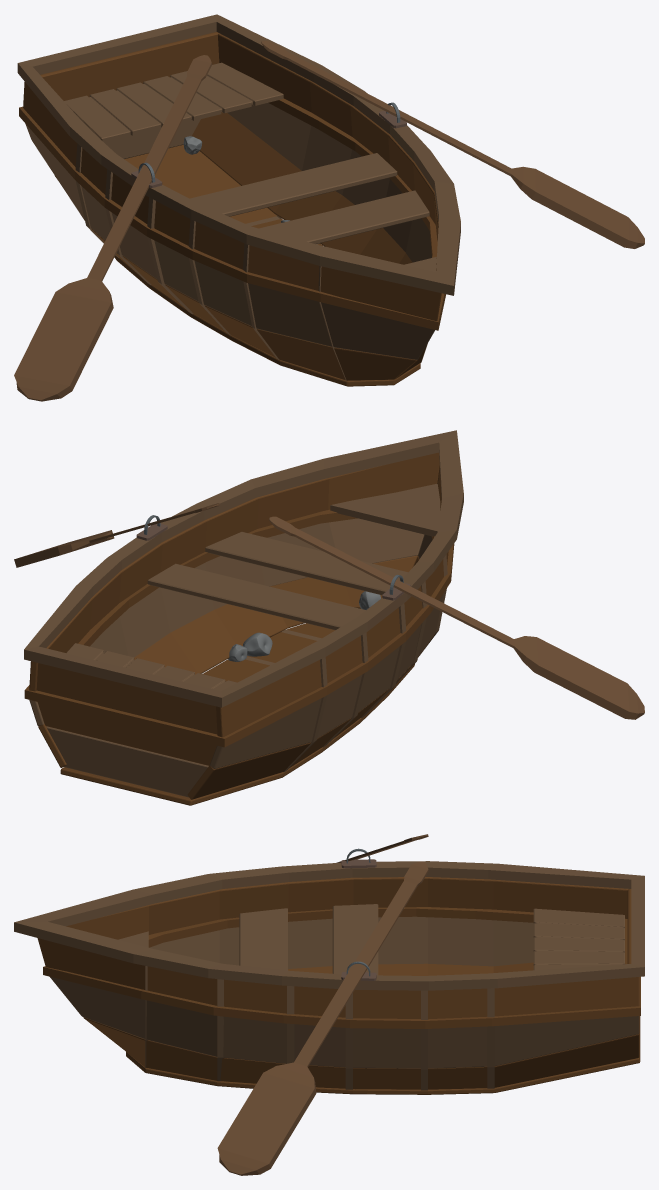
File: Broken Boat 5.fbx
3 renders of one model, top to bottom at view 1: azimuth 30°, elevation 25°; view 2: azimuth 150°, elevation 25°; view 3: azimuth 270°, elevation 25°, orthographic. The views are drawn at different scales.
Visible parts, largest first — view 1: Boat Main Shape.003, Boat Top Edge, Boat Main Shape.002, Boat Main Shape.004, Cube.007, Cube.003, Inner Rim, Cube.006, Boat Back Part.001, Boat Main Shape, Cube, Cube.001 (+2 smaller); view 2: Boat Top Edge, Boat Main Shape.002, Boat Main Shape.003, Boat Main Shape.004, Inner Rim, Cube.007, Cube, Boat Back Part.003, Boat Back Part.001, Cube.001, Boat Main Shape, Boat Back Part.002 (+5 smaller); view 3: Boat Main Shape.003, Boat Main Shape.002, Boat Top Edge, Boat Main Shape.004, Cube.006, Inner Rim, Cube.003, Boat Main Shape.001, Cube.001, Boat Main Shape, Cube.
Boxes of the visible parts, x1,y1,x2,y2 form: Boat Main Shape.003: (25,103,434,359); Boat Top Edge: (17,14,460,295); Boat Main Shape.002: (23,33,441,320); Boat Main Shape.004: (32,112,426,380); Cube.007: (14,55,212,401); Cube.003: (64,62,283,142); Inner Rim: (19,98,445,330); Cube.006: (261,41,644,248); Boat Back Part.001: (40,32,219,100); Boat Main Shape: (54,145,420,386); Cube: (190,153,397,216); Cube.001: (259,190,429,243); Boat Top Edge: (24,430,463,707); Boat Main Shape.002: (29,452,448,737); Boat Main Shape.003: (29,518,442,768); Boat Main Shape.004: (38,555,434,799); Inner Rim: (24,509,454,747); Cube.007: (269,516,644,719); Cube: (147,563,365,630); Boat Back Part.003: (46,726,208,797); Boat Back Part.001: (36,663,217,734); Cube.001: (205,532,407,595); Boat Main Shape: (60,623,414,805); Boat Back Part.002: (37,702,216,765); Boat Main Shape.003: (50,916,639,1068); Boat Main Shape.002: (37,877,639,1019); Boat Top Edge: (14,861,644,990); Boat Main Shape.004: (83,962,639,1089); Cube.006: (217,861,428,1175); Inner Rim: (43,907,640,1028); Cube.003: (533,908,624,970); Boat Main Shape.001: (145,966,494,1090); Cube.001: (239,908,287,970); Boat Main Shape: (126,1016,640,1094); Cube: (332,904,378,975).
Bounding box in the file's own units: 689 × 234 × 646.
